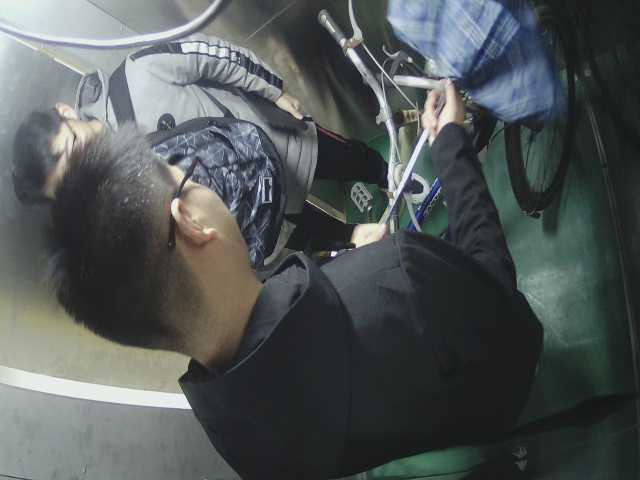bicycle: (298, 4, 605, 271)
person: (51, 139, 540, 431)
